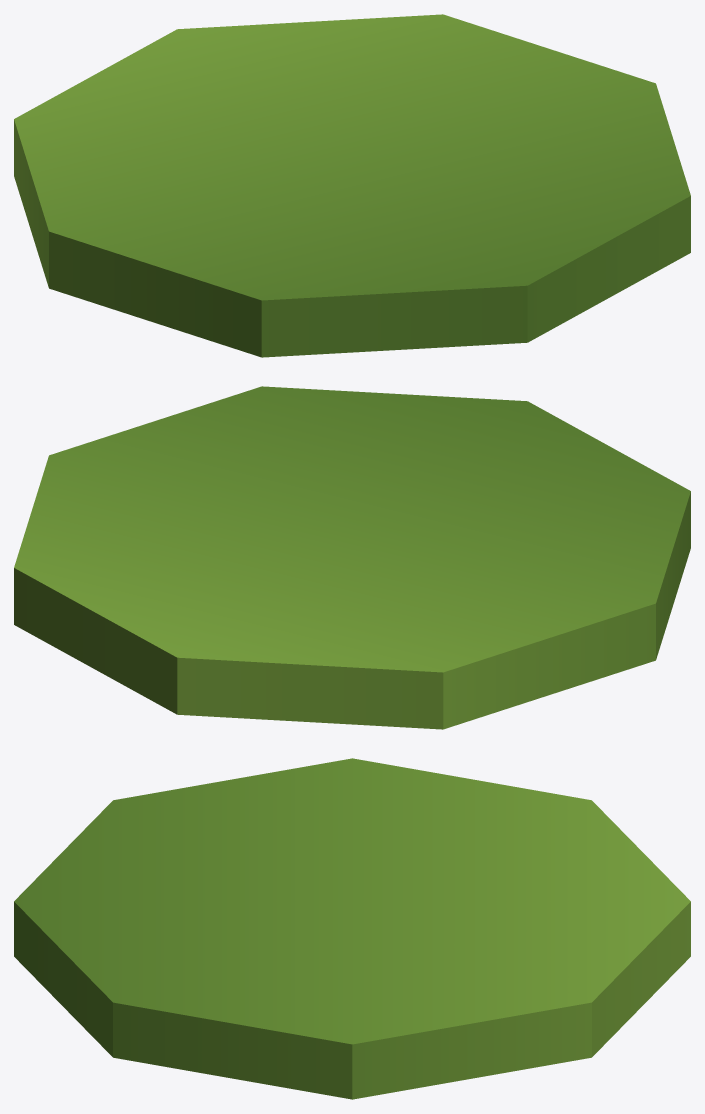
File: ater lily leaf 2.fbx
3 renders of one model, top to bottom at view 1: azimuth 30°, elevation 25°; view 2: azimuth 150°, elevation 25°; view 3: azimuth 270°, elevation 25°, orthographic. The views are drawn at different scales.
Parts seen in each view (by area): view 1: ater lily leaf 2; view 2: ater lily leaf 2; view 3: ater lily leaf 2.
Boxes of the visible parts, x1,y1,x2,y2 form: ater lily leaf 2: [14, 14, 690, 357]; ater lily leaf 2: [14, 386, 690, 729]; ater lily leaf 2: [14, 758, 690, 1099].
Size of the model in its own units: 63.18 by 5.68 by 63.18.
